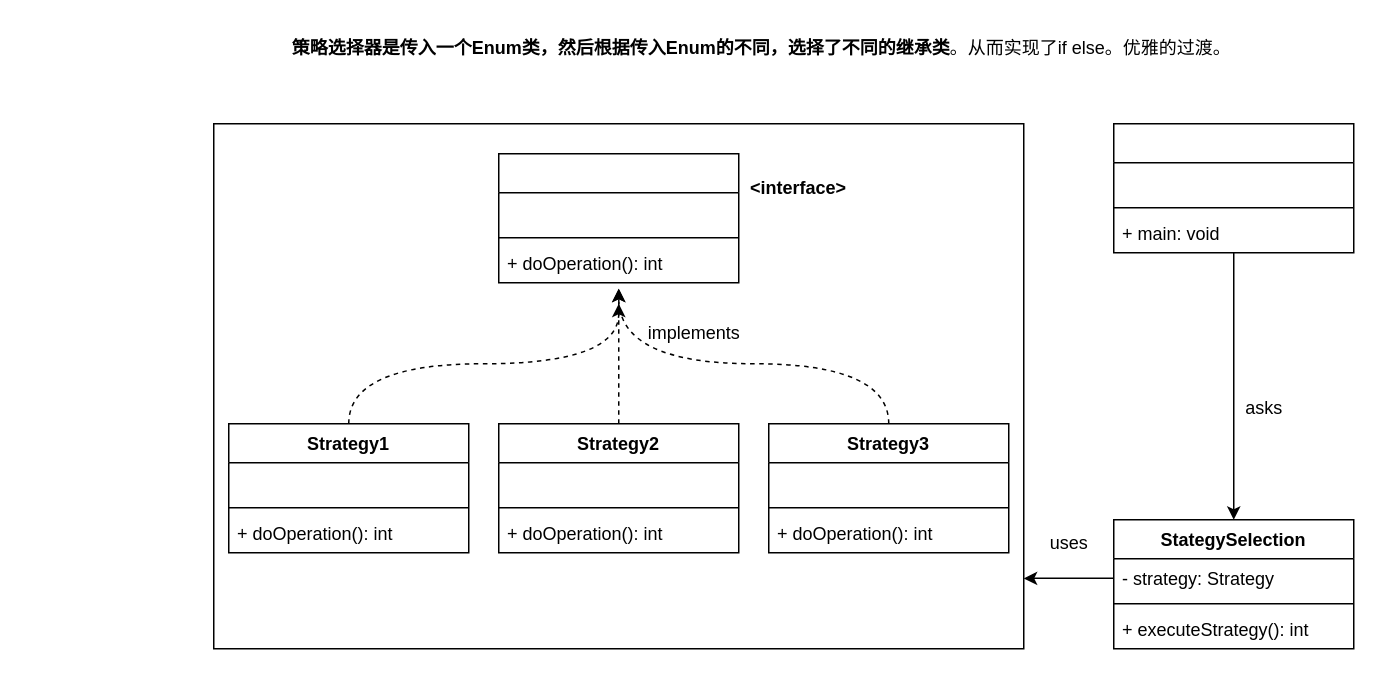
This 1380x678 diagram has some shape labels left out. Here are the shapes that lost their labels. From the top down, the box of each, then its label:
(1112, 122, 1354, 253): MainDemo
(497, 152, 739, 283): Srategy
